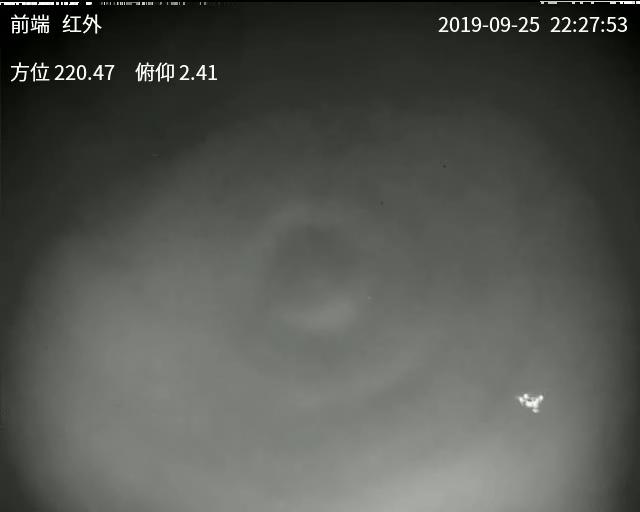uav: (516, 386, 545, 417)
